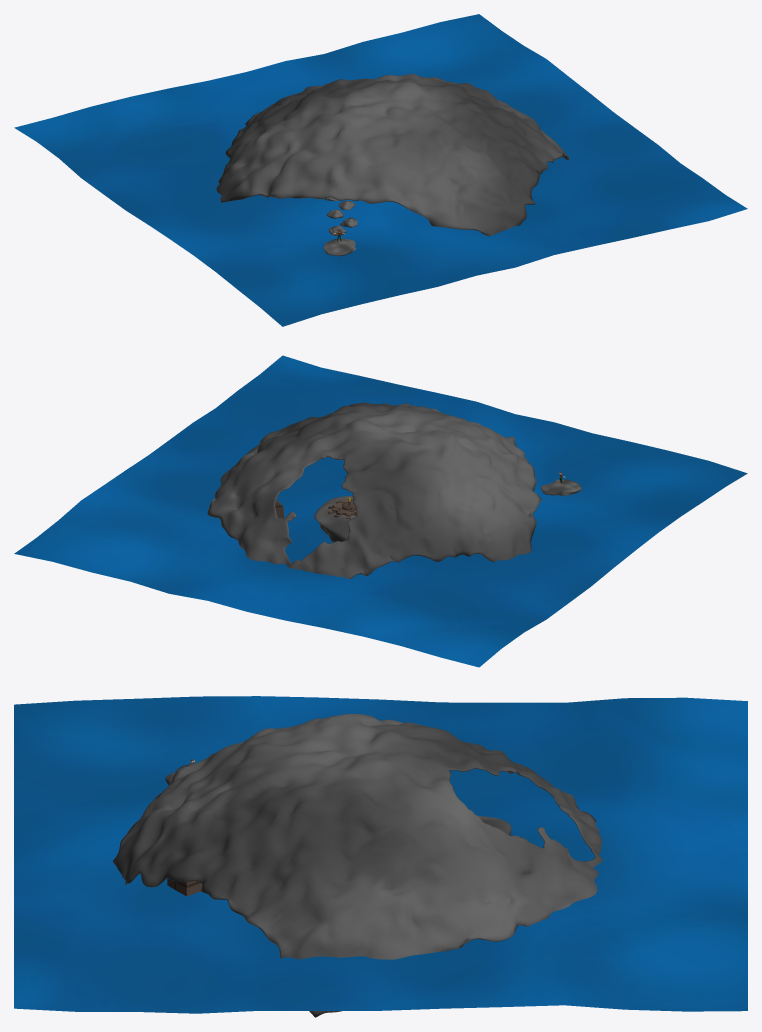
Rendered from seaside_treasure_cave.glb.
The picture shows the model from 3 angles, top to bottom: view 1: azimuth 30°, elevation 25°; view 2: azimuth 150°, elevation 25°; view 3: azimuth 270°, elevation 25°; orthographic projection. The views are drawn at different scales.
Visible parts, largest first — view 1: Water, CaveWall; view 2: Water, CaveWall, CentralRock, StartingRock; view 3: Water, CaveWall.
Part boxes in pixels (<box>): Water: <box>14,14,747,326</box>; CaveWall: <box>216,73,569,236</box>; Water: <box>14,355,747,667</box>; CaveWall: <box>207,402,541,579</box>; CentralRock: <box>314,496,355,541</box>; StartingRock: <box>541,479,581,495</box>; Water: <box>14,696,747,1013</box>; CaveWall: <box>113,714,602,1017</box>.
Bounding box in the file's own units: 71.6 × 17.27 × 71.6.
Materials: 6 (6 with a texture image).
